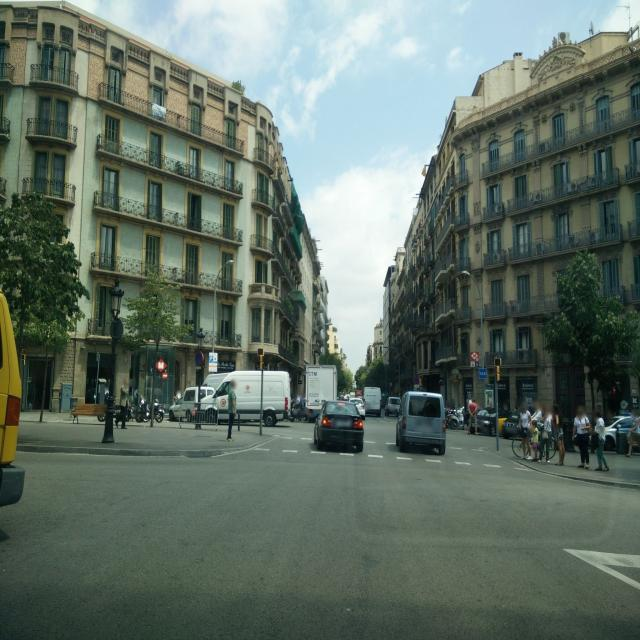forb_stopping: (195, 351, 203, 367)
